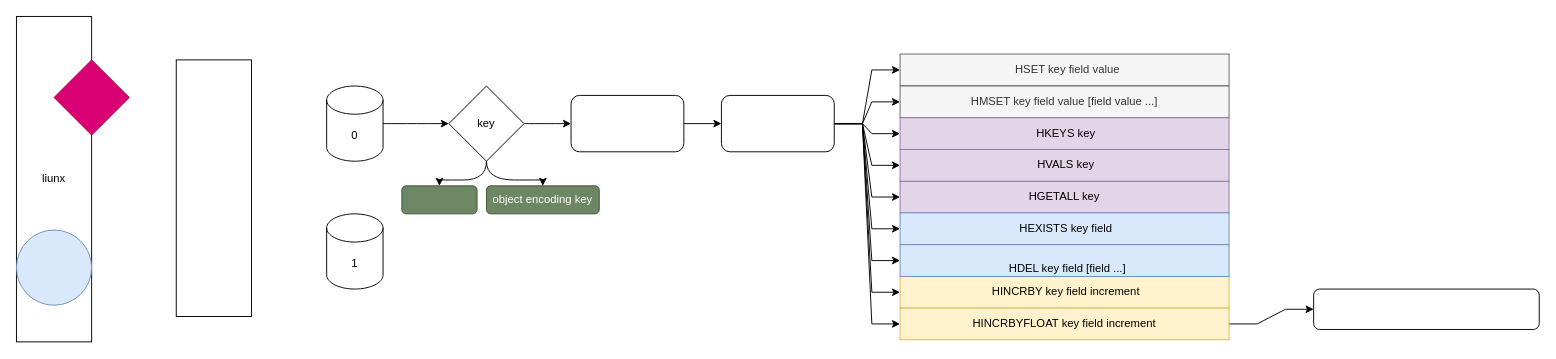
This 1556x359 diagram has some shape labels left out. Here are the shapes that lost their labels. From the top down, the box of each, then its label:
(53, 59, 129, 135): epoll
(570, 94, 684, 152): value
(721, 94, 834, 152): Hash map(k-v)
(175, 59, 251, 316): port:6379
(401, 185, 477, 214): TYPE key
(16, 229, 92, 305): kernel
(1313, 288, 1539, 329): 场景：点赞，收藏，详情页
